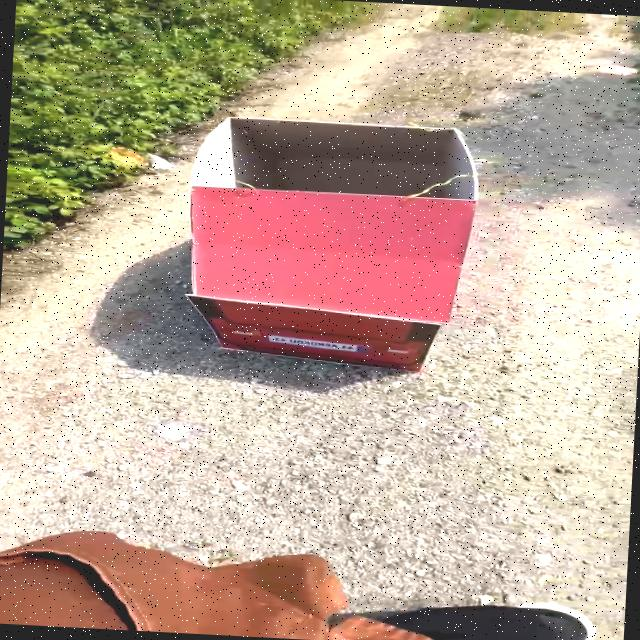red_car: (142, 81, 517, 400)
